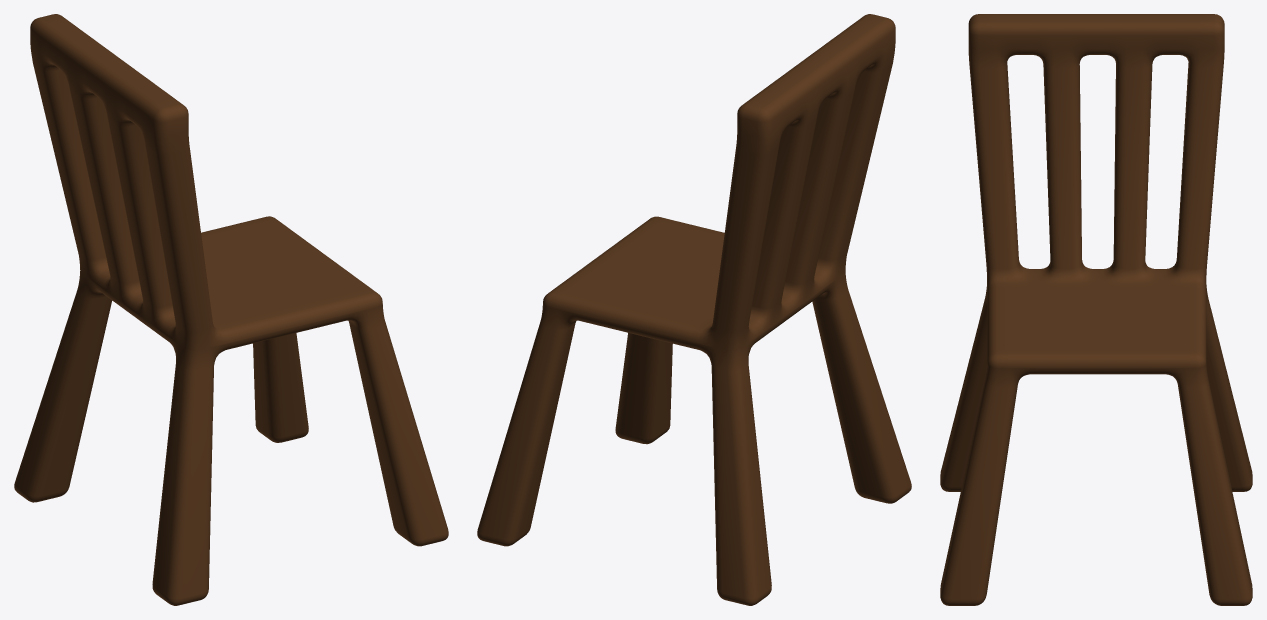
The model's file is sandalye.fbx.
The picture shows the model from 3 angles, left to right: view 1: azimuth 30°, elevation 25°; view 2: azimuth 150°, elevation 25°; view 3: azimuth 270°, elevation 25°; orthographic projection. The views are drawn at different scales.
Parts seen in each view (by area): view 1: Cube; view 2: Cube; view 3: Cube.
Part boxes in pixels (x1,y1,x2,y2): Cube: [14, 14, 448, 605]; Cube: [477, 14, 911, 605]; Cube: [940, 14, 1252, 605].
Size of the model in its own units: 285 by 470 by 285.
